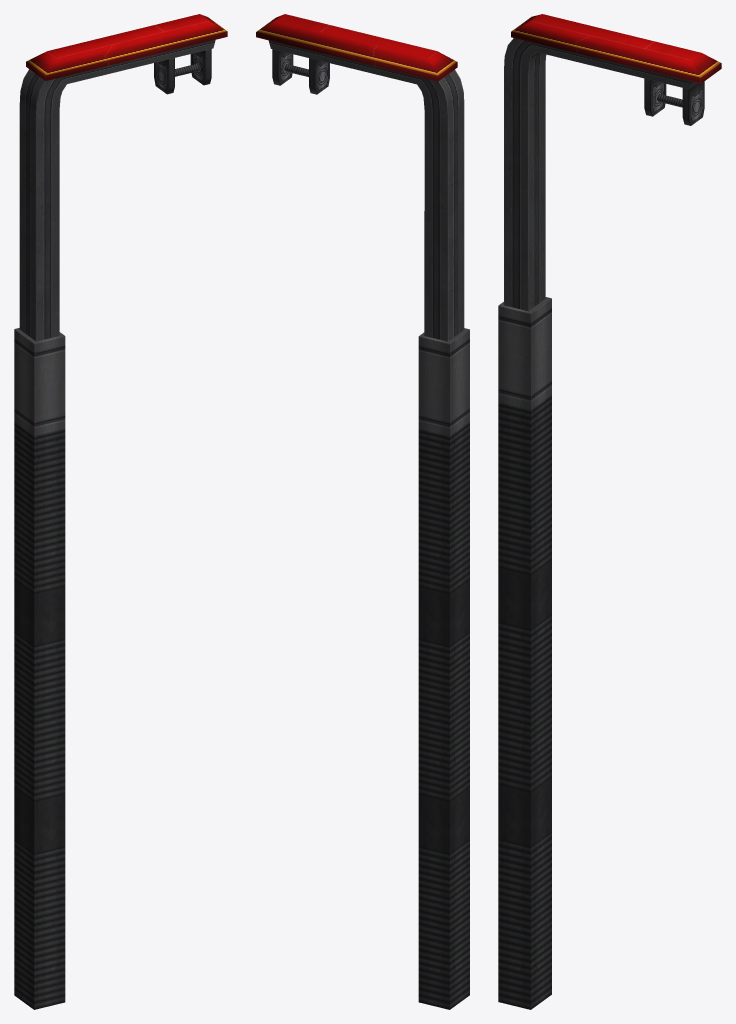
The model's file is cmn_obj_pulleystand_SD.obj.
3 renders of one model, left to right at view 1: azimuth 30°, elevation 25°; view 2: azimuth 150°, elevation 25°; view 3: azimuth 330°, elevation 25°, orthographic. The views are drawn at different scales.
Parts seen in each view (by area): view 1: polygon0; view 2: polygon0; view 3: polygon0.
Part boxes in pixels (box(x1,y1,x2,y2)): polygon0: box(14, 14, 227, 1009); polygon0: box(256, 14, 469, 1009); polygon0: box(498, 14, 721, 1009).
Size of the model in its own units: 15.64 by 72.57 by 2.8.
Materials: 1 (1 with a texture image).
